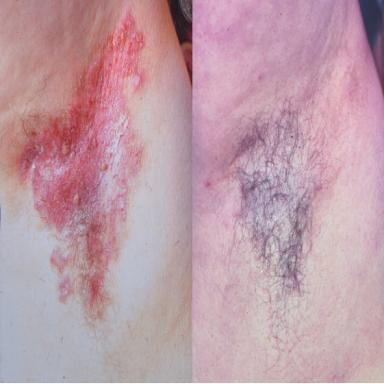Darier_s-Disease: (17, 14, 147, 323)
